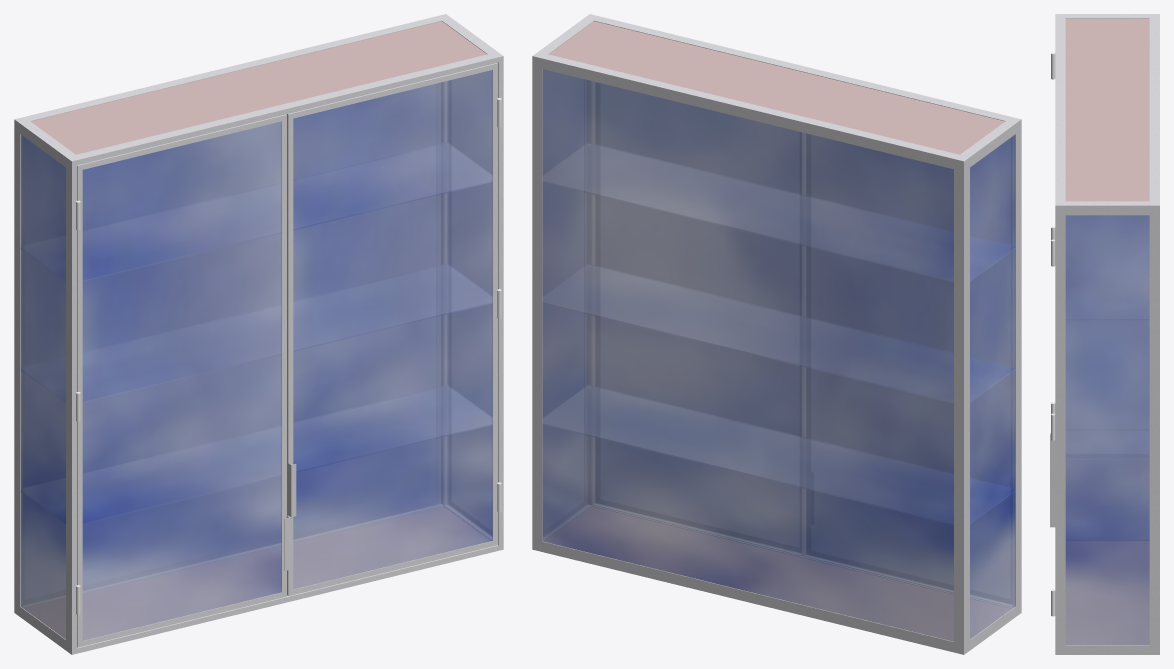
Rendered from vitrina.gltf.
The picture shows the model from 3 angles, left to right: view 1: azimuth 30°, elevation 25°; view 2: azimuth 150°, elevation 25°; view 3: azimuth 270°, elevation 25°; orthographic projection. The views are drawn at different scales.
Visible parts, largest first — view 1: Material2.002, Material2.034, Material2.016, Material2.001, Material2.005, Material2.007, Material2.006, Material2.003, Material2.004, Material2, Material2.053, Material2.060 (+19 smaller); view 2: Material2.002, Material2.016, Material2.034, Material2.001, Material2.005, Material2.006, Material2.007, Material2.004, Material2.003, Material2, Material2.055, Material2.061 (+14 smaller); view 3: Material2, Material2.003, Material2.005, Material2.006, Material2.004, Material2.007, Material2.052, Material2.054, Material2.081, Material2.080, Material2.060, Material2.061 (+11 smaller).
Boxes of the visible parts, x1=… form: Material2.002: x1=24, y1=84, x2=440, y2=599; Material2.034: x1=82, y1=121, x2=281, y2=640; Material2.016: x1=293, y1=70, x2=492, y2=589; Material2.001: x1=20, y1=135, x2=65, y2=639; Material2.005: x1=21, y1=385, x2=491, y2=524; Material2.007: x1=21, y1=142, x2=491, y2=281; Material2.006: x1=21, y1=264, x2=491, y2=402; Material2.003: x1=31, y1=21, x2=486, y2=154; Material2.004: x1=25, y1=507, x2=489, y2=640; Material2: x1=448, y1=70, x2=491, y2=530; Material2.053: x1=69, y1=159, x2=76, y2=654; Material2.060: x1=69, y1=54, x2=503, y2=165; Material2.002: x1=542, y1=69, x2=953, y2=641; Material2.016: x1=596, y1=83, x2=800, y2=552; Material2.034: x1=806, y1=134, x2=1011, y2=604; Material2.001: x1=970, y1=135, x2=1015, y2=639; Material2.005: x1=543, y1=385, x2=1014, y2=524; Material2.006: x1=543, y1=264, x2=1014, y2=403; Material2.007: x1=543, y1=143, x2=1014, y2=281; Material2.004: x1=545, y1=507, x2=1010, y2=641; Material2.003: x1=549, y1=21, x2=1004, y2=154; Material2: x1=543, y1=70, x2=587, y2=535; Material2.055: x1=959, y1=159, x2=966, y2=654; Material2.061: x1=532, y1=54, x2=966, y2=165; Material2: x1=1065, y1=215, x2=1149, y2=645; Material2.003: x1=1065, y1=19, x2=1149, y2=201; Material2.005: x1=1066, y1=431, x2=1148, y2=540; Material2.006: x1=1066, y1=321, x2=1148, y2=429; Material2.004: x1=1066, y1=541, x2=1149, y2=644; Material2.007: x1=1066, y1=216, x2=1148, y2=319; Material2.052: x1=1055, y1=205, x2=1060, y2=654; Material2.054: x1=1154, y1=205, x2=1159, y2=654; Material2.081: x1=1060, y1=210, x2=1065, y2=649; Material2.080: x1=1149, y1=211, x2=1154, y2=649; Material2.060: x1=1055, y1=14, x2=1060, y2=205; Material2.061: x1=1154, y1=14, x2=1159, y2=205.
Size of the model in its own units: 51.18 by 55.91 by 12.4.
Materials: 4 (2 with a texture image).
